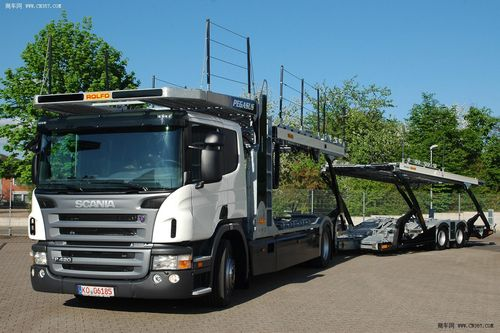卡车: (27, 82, 483, 307)
